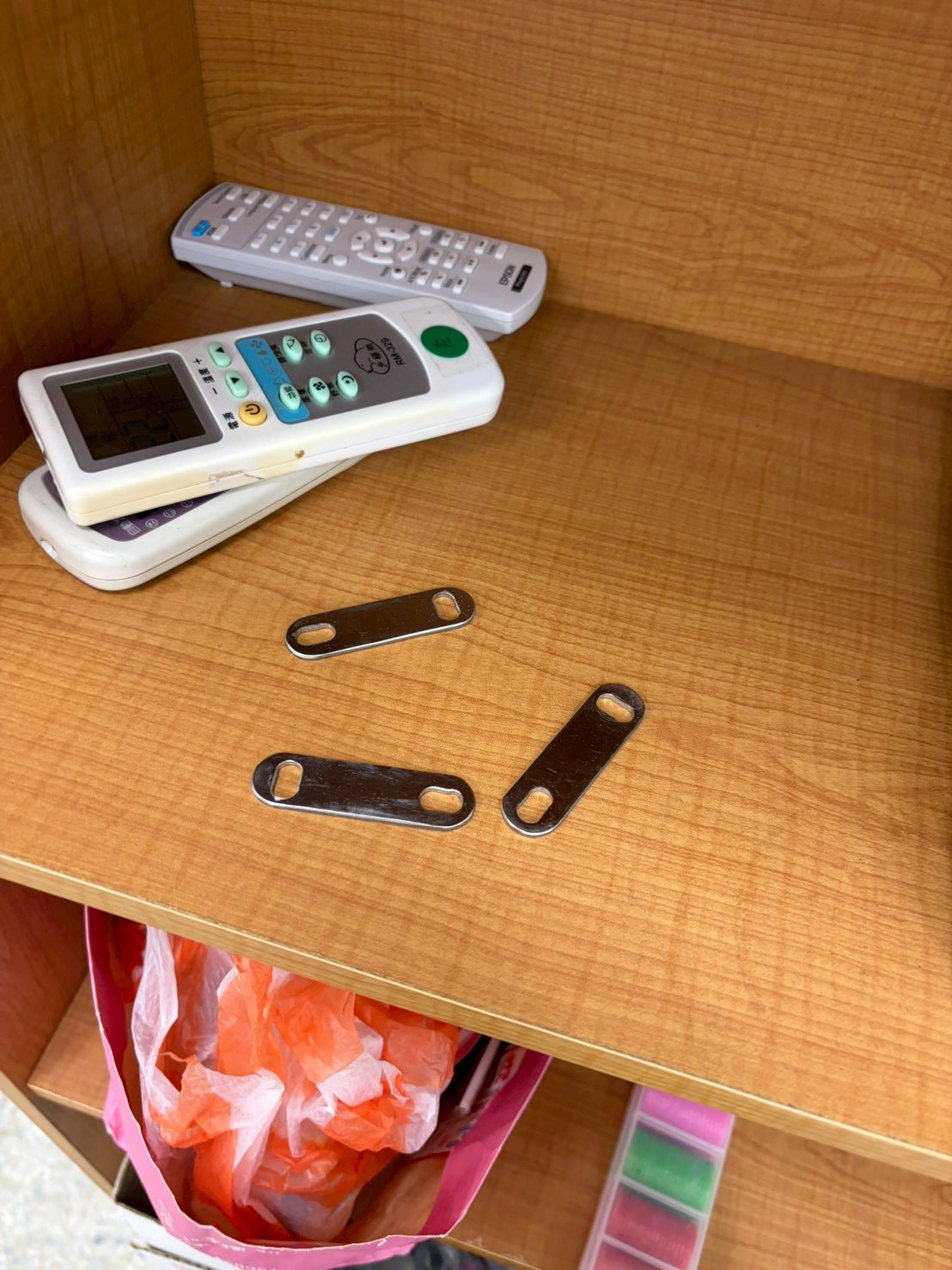Fe: (501, 654, 646, 850), (244, 735, 474, 840), (276, 572, 478, 668)
